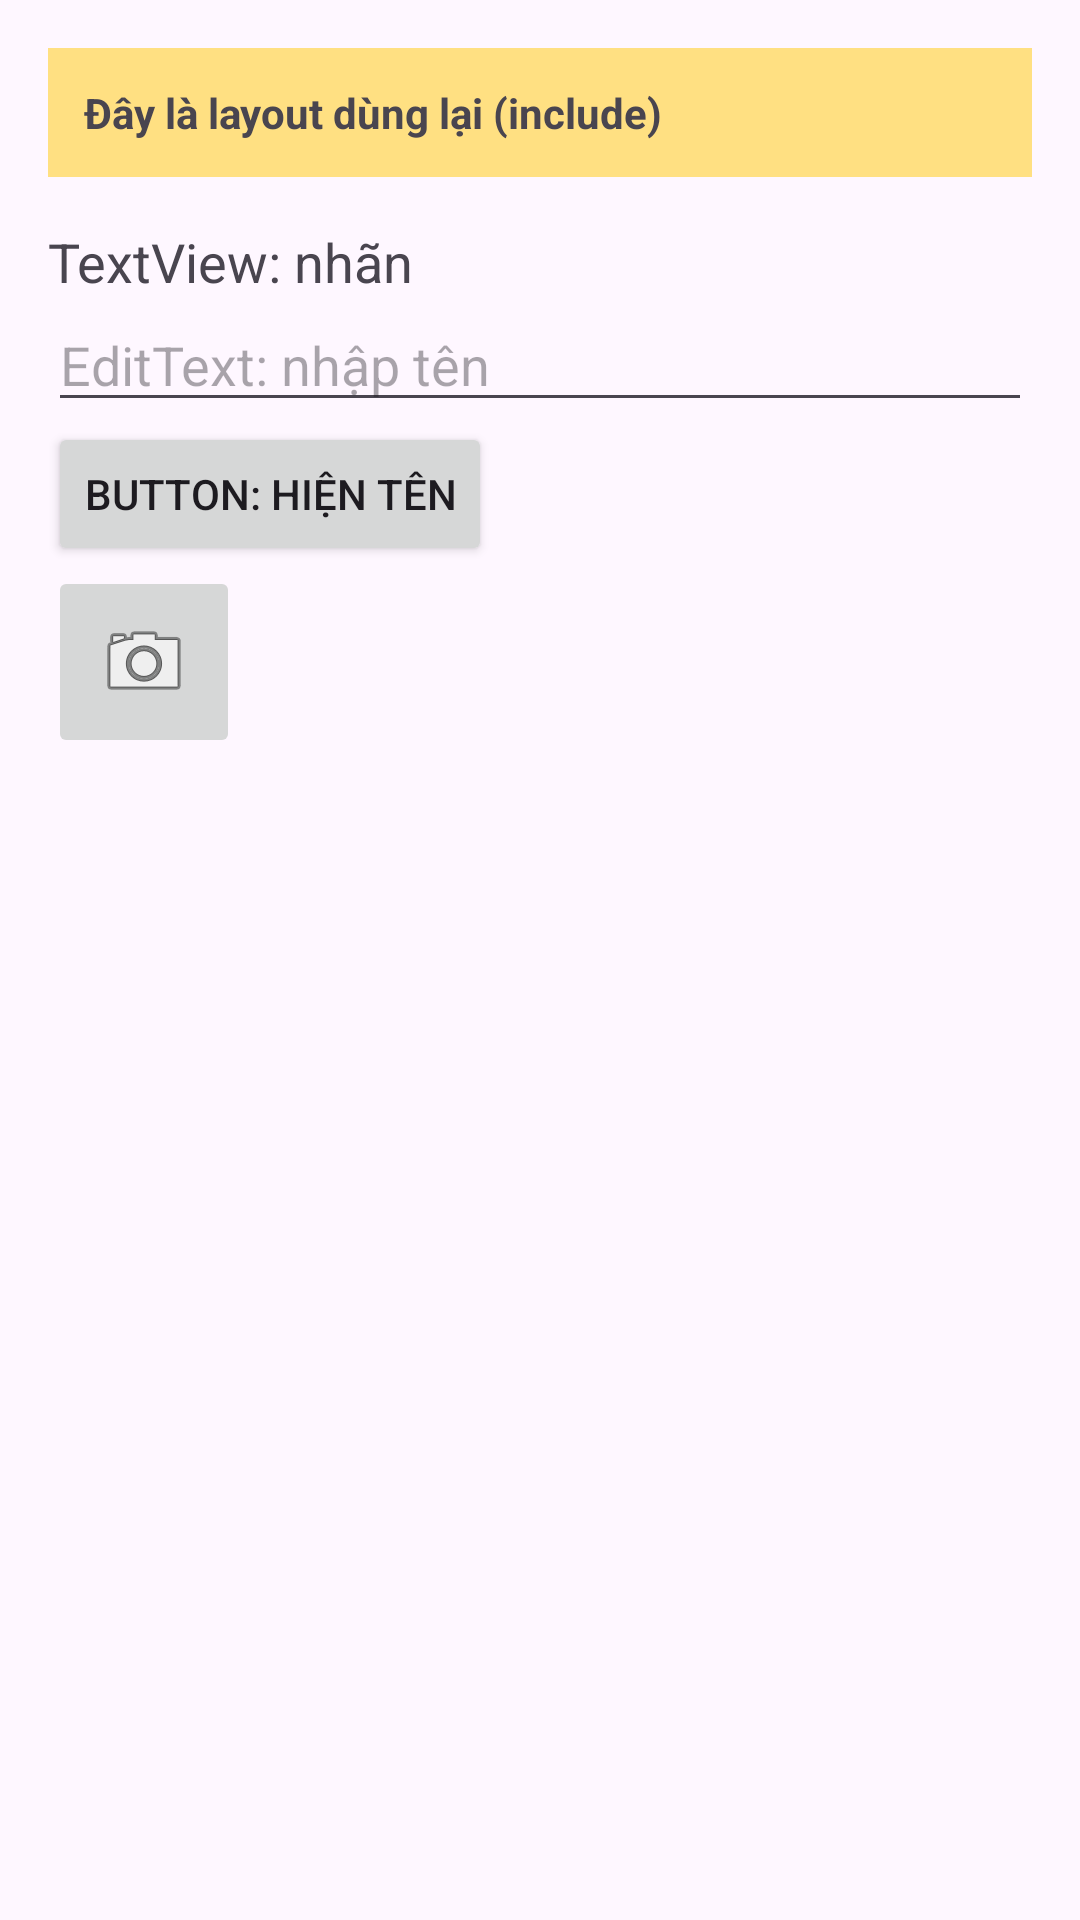

Icon bounding boxes for this 1080 x 1920 phone screenshot, format detection(x1, y1, x2, y2):
Camera: detection(60, 584, 228, 740)
